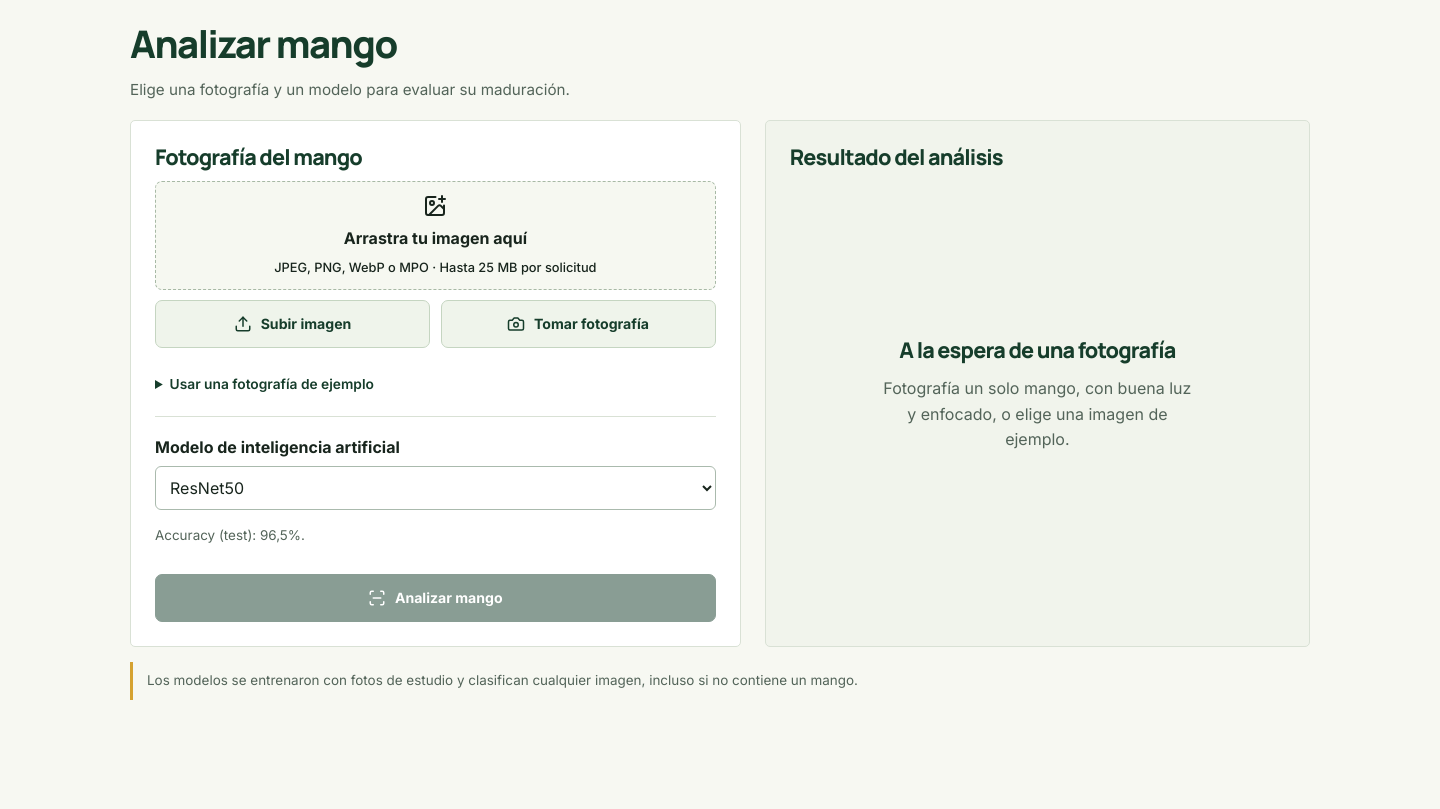
Test: Flujo de análisis › envía el ejemplo Maduro solo después de confirmar
The image size is (1440, 809).
Click the heading "Usar una fotografía de ejemplo": (272, 384) [170,376,374,392]
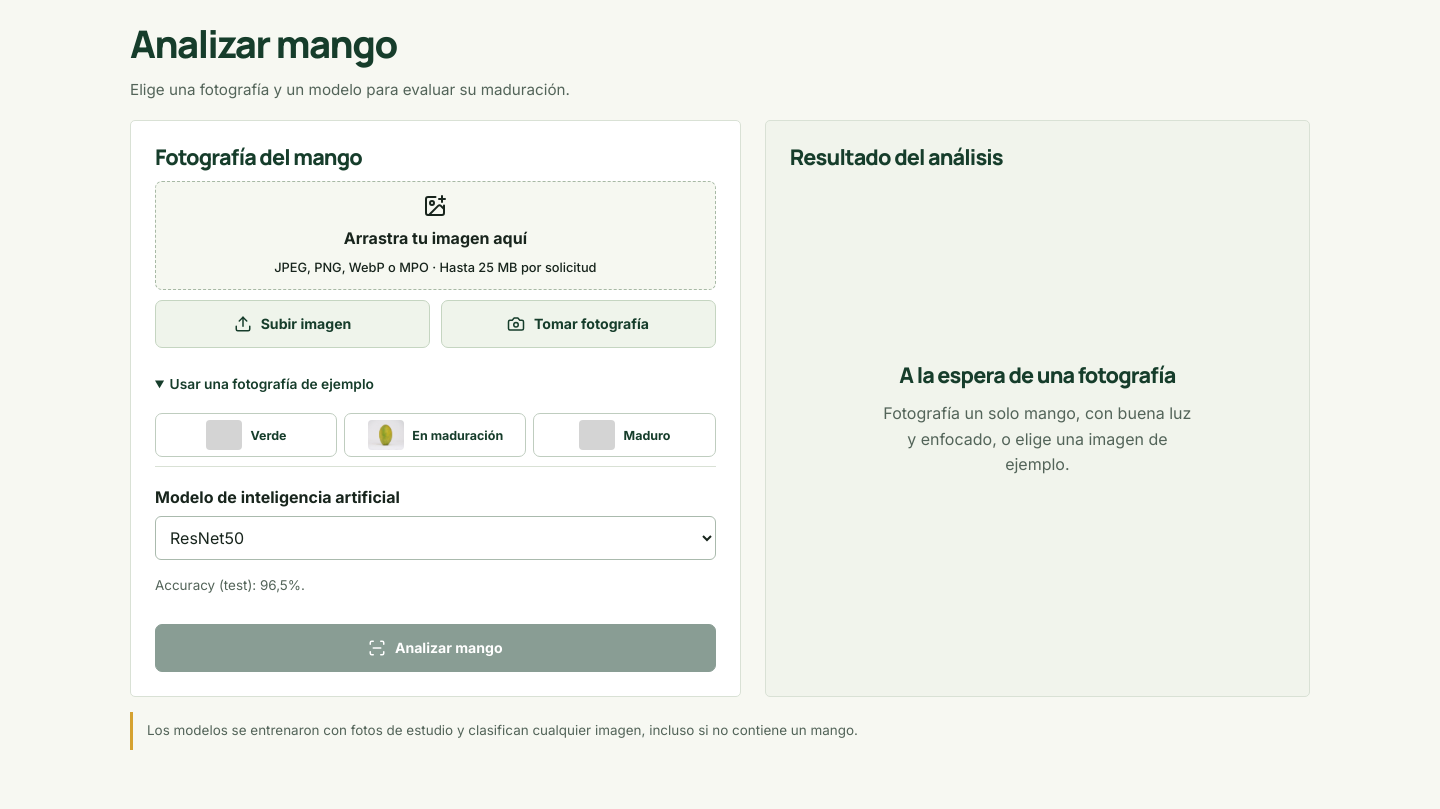
Click the button "Maduro": (625, 435) [534,413,716,457]
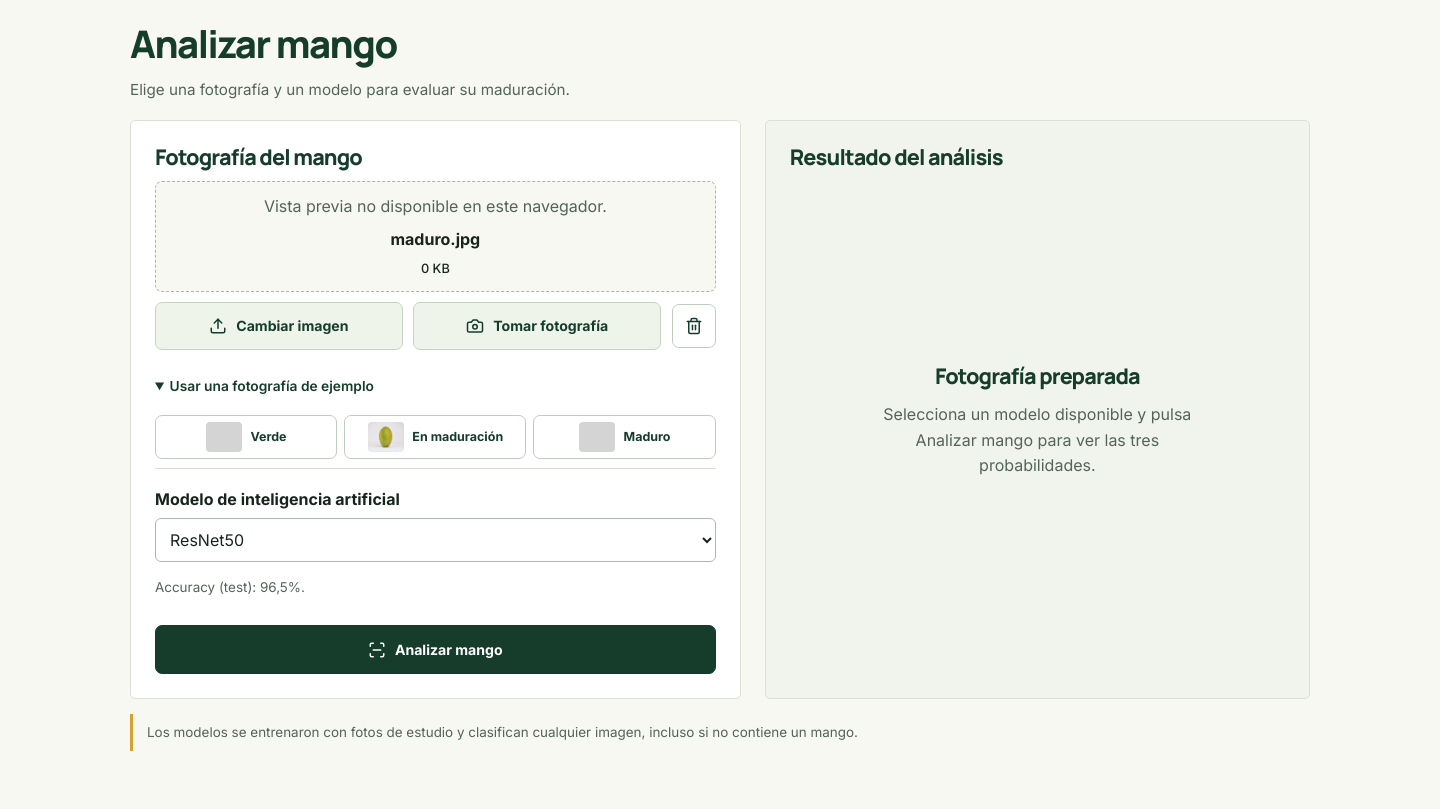
Expected: the text "maduro.jpg" is shown, [390,227,480,251]
Click the button "Analizar mango": (435, 650) [155,626,716,674]
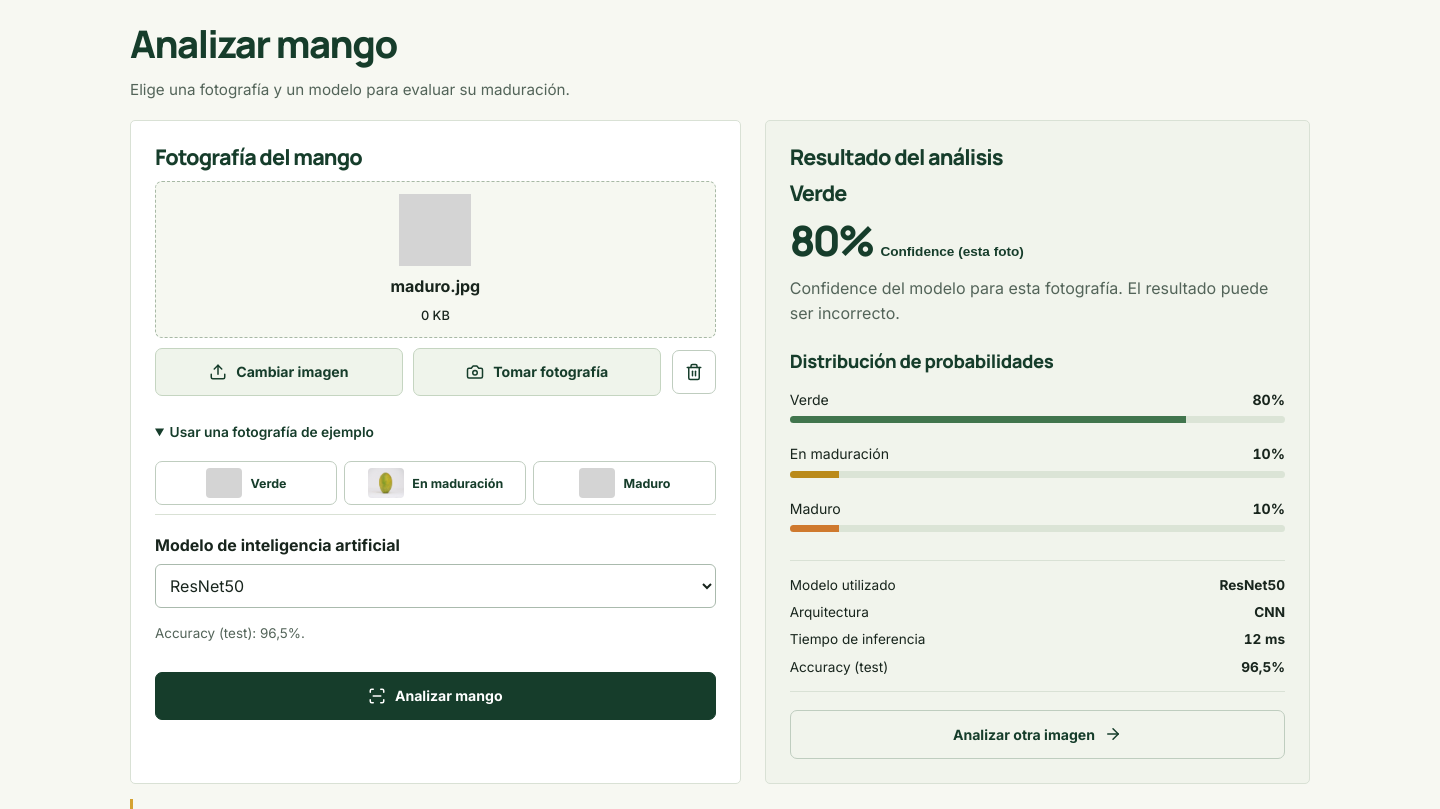
Expected: the text "maduro.jpg" is shown, [390,274,480,298]
Expected: the text "12 ms" is shown, [1244,632,1285,648]
Expected: the heading "Verde" is shown, [790,178,847,207]
